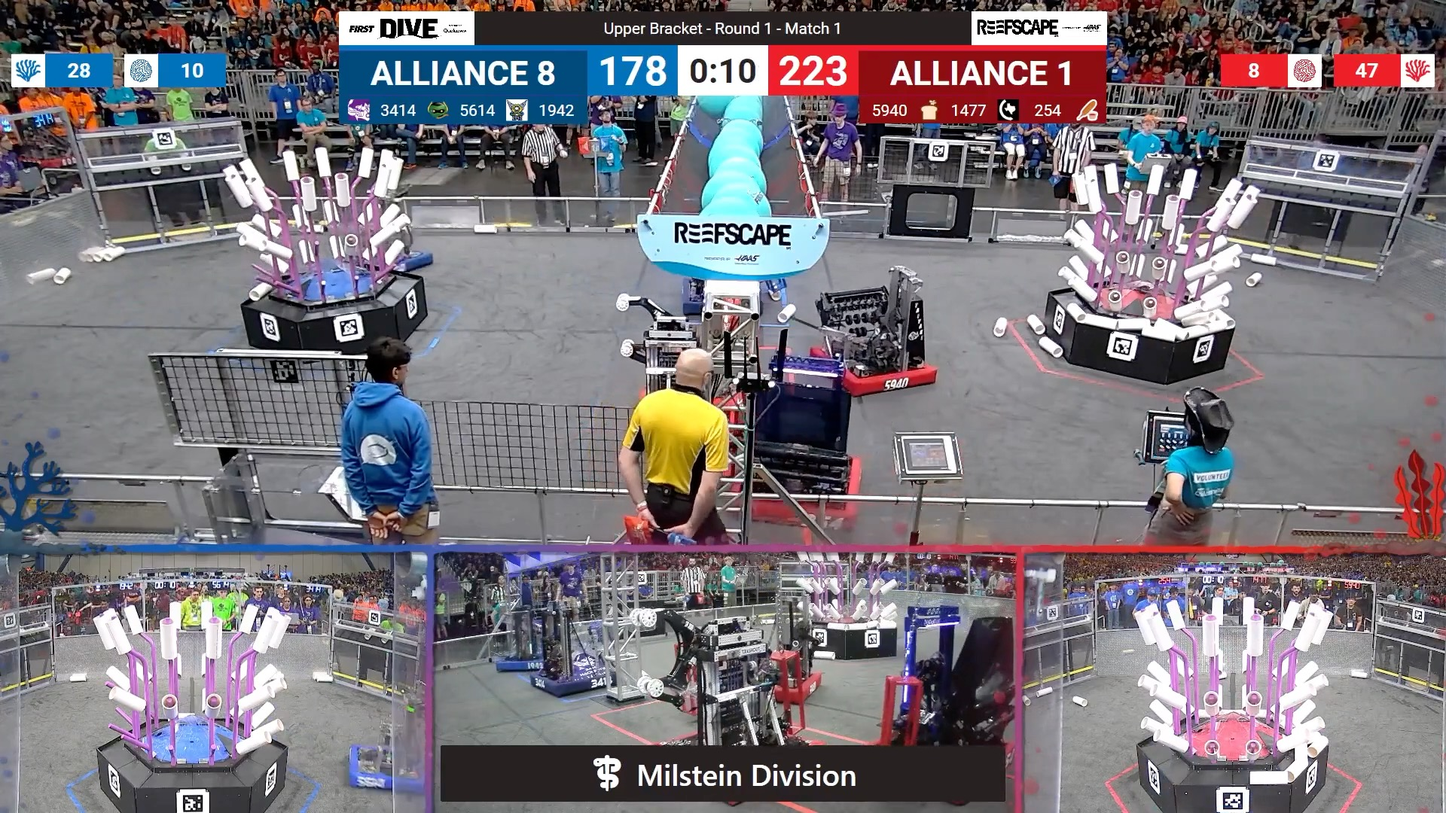bumpers: (720, 458, 864, 534), (805, 336, 949, 404), (517, 663, 620, 699), (341, 742, 402, 798), (369, 245, 443, 278), (772, 668, 827, 701), (491, 654, 552, 676)
